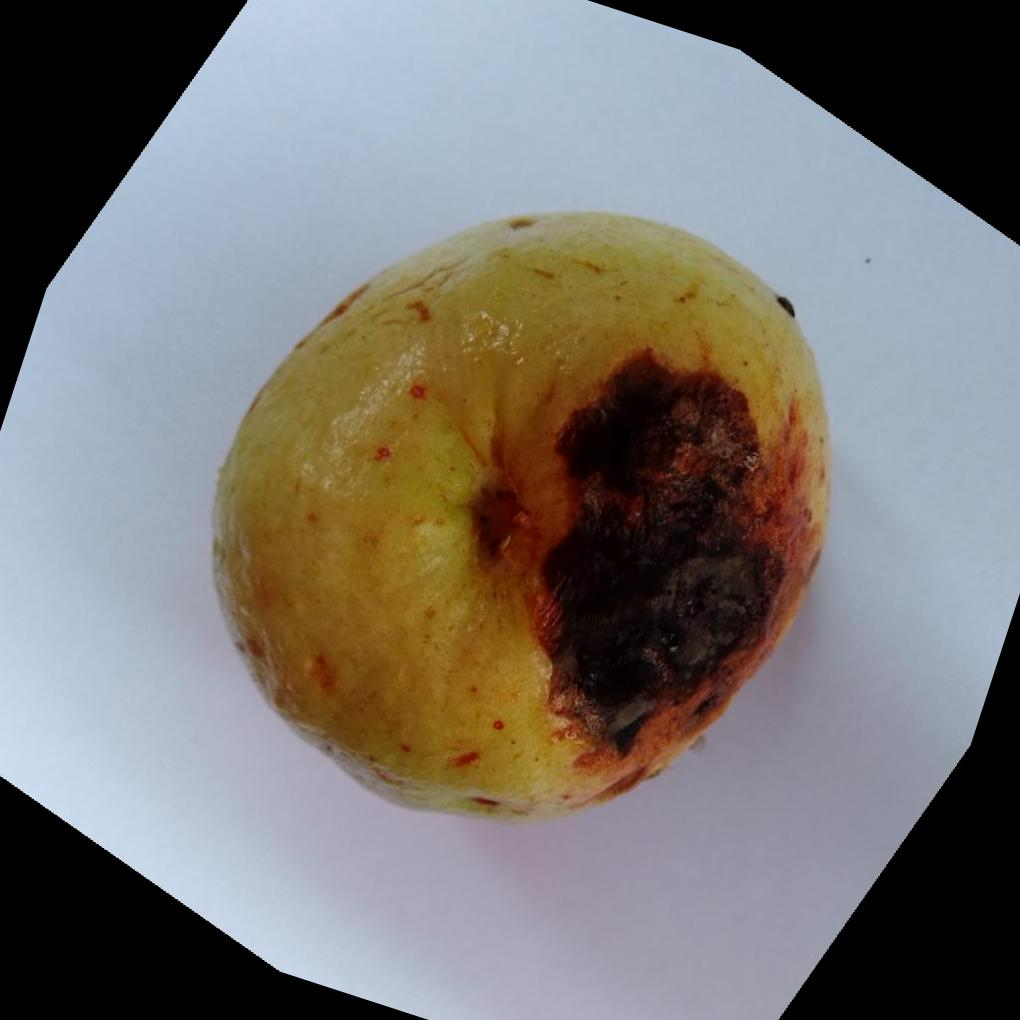FreshOrange: (212, 208, 835, 824)
